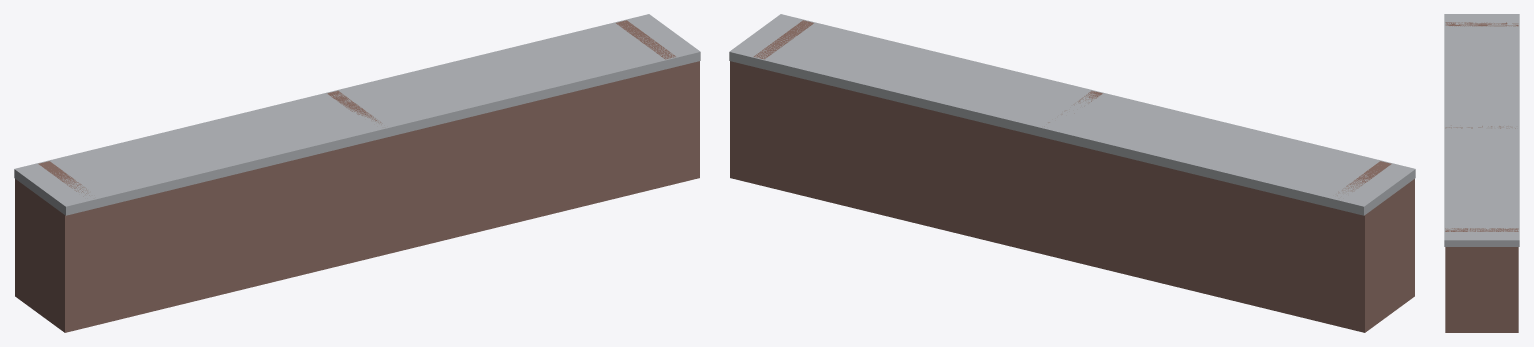
The model's file is record_bin.glb.
3 renders of one model, left to right at view 1: azimuth 30°, elevation 25°; view 2: azimuth 150°, elevation 25°; view 3: azimuth 270°, elevation 25°, orthographic. The views are drawn at different scales.
Parts seen in each view (by area): view 1: bin_shell, top_rail, end_panel_-2000, end_panel_0, end_panel_2000; view 2: bin_shell, top_rail, end_panel_-2000, end_panel_2000, end_panel_0; view 3: top_rail, bin_shell, end_panel_-2000, end_panel_2000.
Boxes of the visible parts, x1=… form: bin_shell: x1=15, y1=61, x2=699, y2=332; top_rail: x1=14, y1=14, x2=700, y2=215; end_panel_-2000: x1=38, y1=161, x2=99, y2=327; end_panel_0: x1=327, y1=90, x2=388, y2=256; end_panel_2000: x1=616, y1=20, x2=676, y2=182; bin_shell: x1=730, y1=61, x2=1414, y2=332; top_rail: x1=729, y1=14, x2=1415, y2=215; end_panel_-2000: x1=1330, y1=161, x2=1391, y2=326; end_panel_2000: x1=753, y1=20, x2=813, y2=186; end_panel_0: x1=1041, y1=90, x2=1102, y2=256; top_rail: x1=1444, y1=14, x2=1519, y2=246; bin_shell: x1=1445, y1=247, x2=1518, y2=332; end_panel_-2000: x1=1445, y1=22, x2=1518, y2=26; end_panel_2000: x1=1445, y1=228, x2=1518, y2=231.
Bounding box in the file's own units: 4.4 × 0.84 × 0.62.
